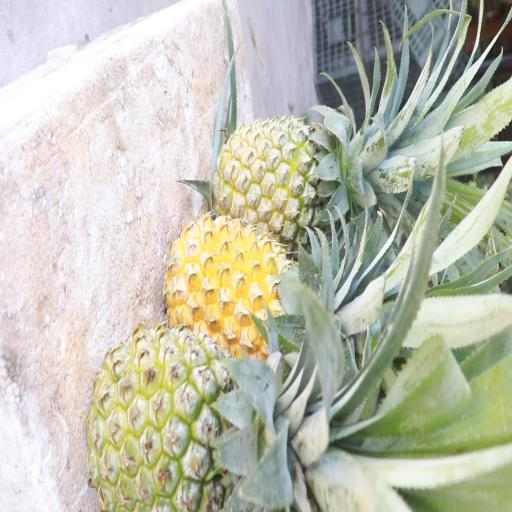------------------------------: (93, 326, 282, 512), (218, 115, 359, 245)
Pineapple - v8 v1: (172, 213, 325, 366)
